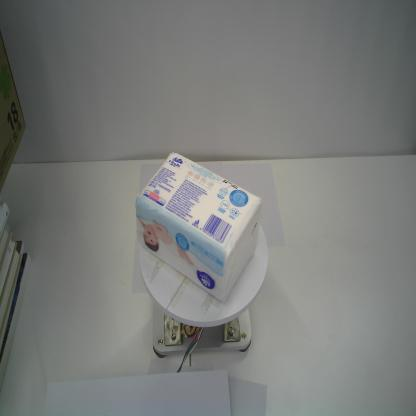Tissue: (133, 152, 265, 301)
